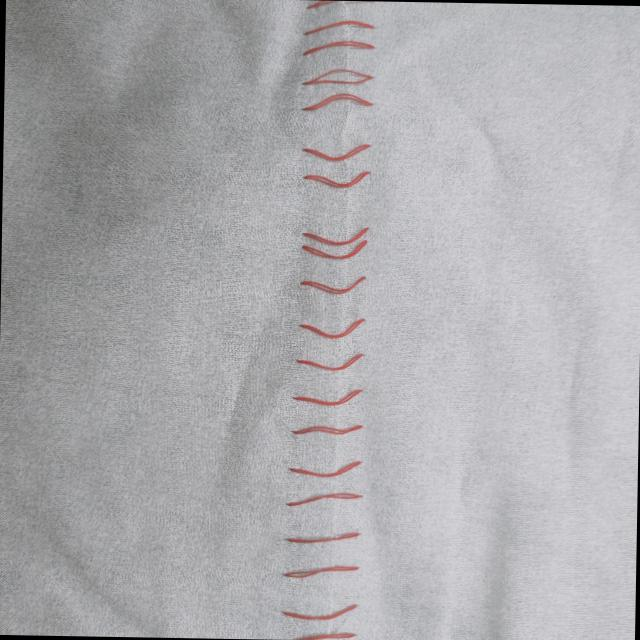gray stitch: (279, 221, 376, 640), (294, 0, 382, 194)
